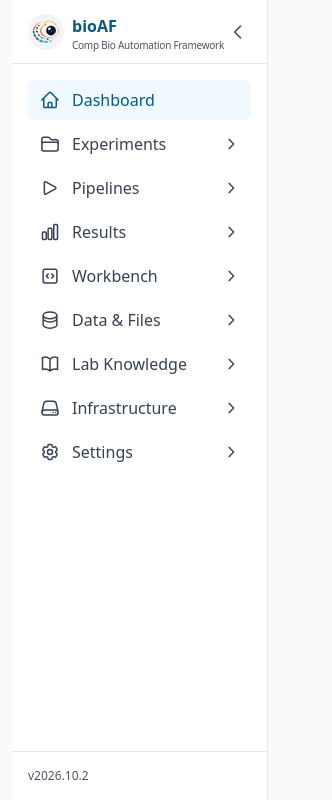
Test: Sidebar collapse toggle › clicking the toggle collapses the sidebar and hides section labels
The image size is (332, 800).
Click the button with test id "sidebar-collapse-toggle": coordinates (238, 32) [224,18,252,46]
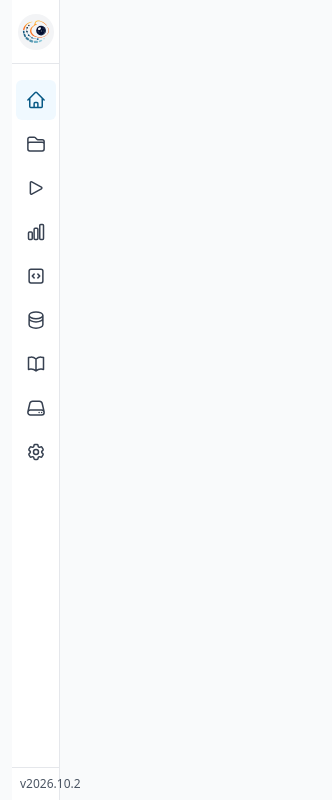
Result: the button "Pipelines" is gone
Result: the button "Workbench" is gone
